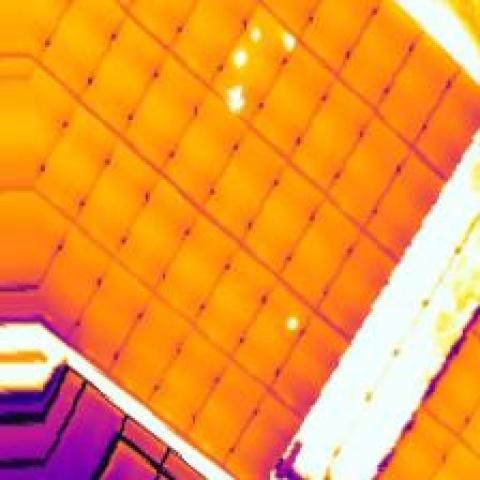fault: (218, 77, 253, 118), (276, 28, 300, 53), (229, 47, 251, 71), (283, 313, 302, 336), (248, 23, 266, 43)
